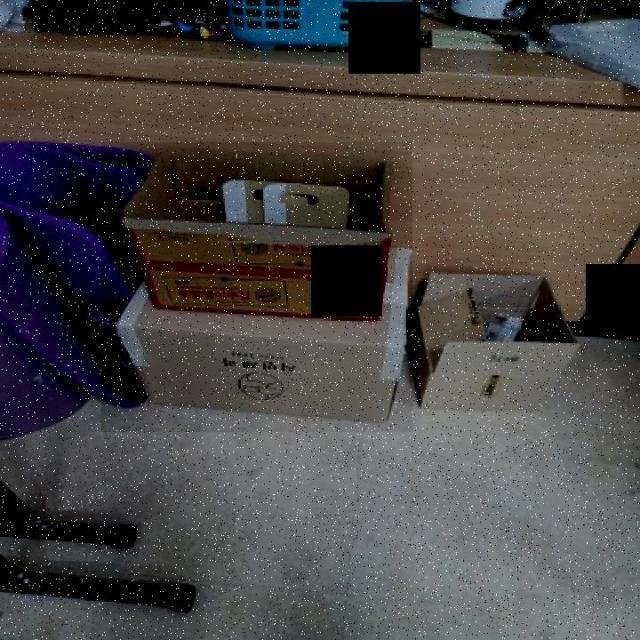box: (101, 142, 412, 432), (421, 255, 585, 416)
